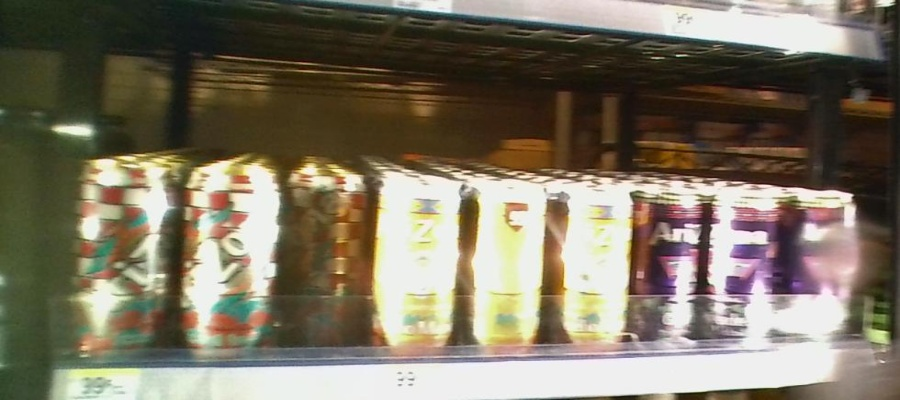bottle: (69, 145, 175, 362), (183, 154, 279, 353), (368, 157, 460, 356), (283, 155, 368, 353), (465, 166, 549, 361), (552, 177, 633, 352), (781, 182, 858, 347), (636, 172, 706, 349), (711, 176, 781, 346)
